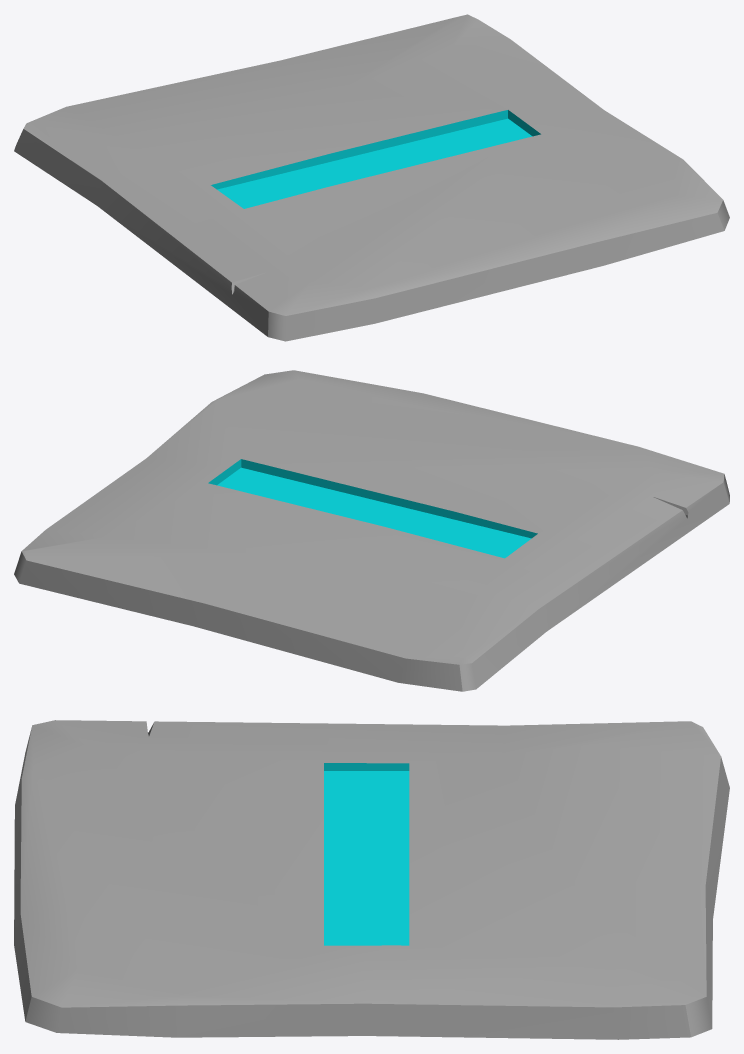
The model's file is dalle5.fbx.
The picture shows the model from 3 angles, top to bottom: view 1: azimuth 30°, elevation 25°; view 2: azimuth 150°, elevation 25°; view 3: azimuth 270°, elevation 25°; orthographic projection. The views are drawn at different scales.
Visible parts, largest first — view 1: pCube5; view 2: pCube5; view 3: pCube5.
Boxes of the visible parts, x1=… form: pCube5: x1=14, y1=14, x2=729, y2=341; pCube5: x1=14, y1=370, x2=729, y2=691; pCube5: x1=14, y1=720, x2=729, y2=1039.
Bounding box in the file's own units: 6.99 × 0.4395 × 7.18.
